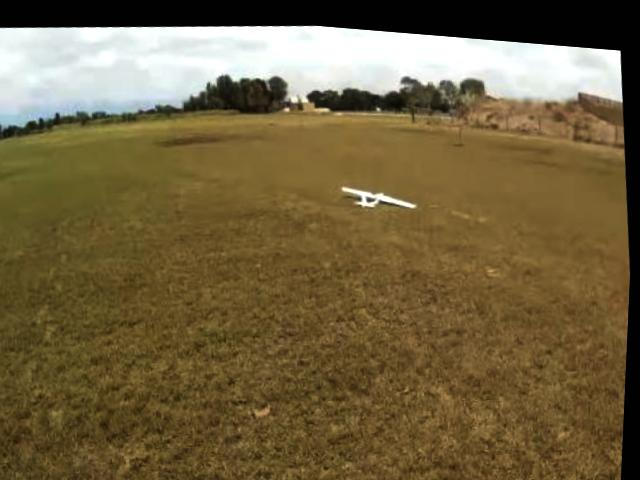uav: (334, 160, 428, 222)
